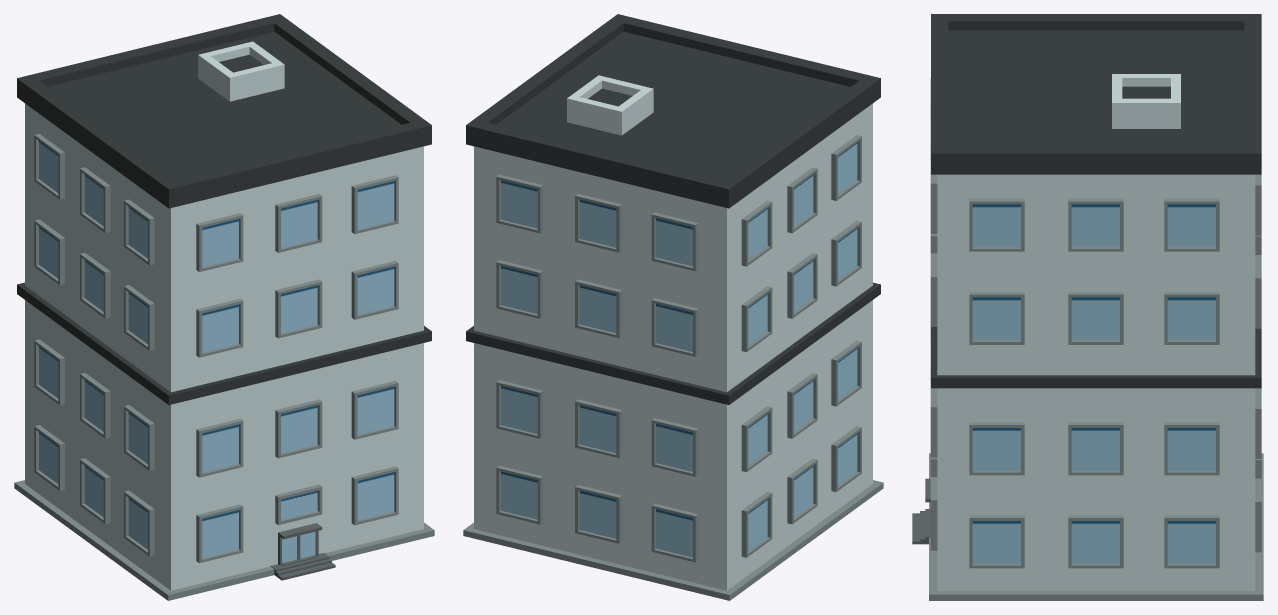
Rendered from White Stack Low.fbx.
3 views of the same model, side by side, from view 1: azimuth 30°, elevation 25°; view 2: azimuth 150°, elevation 25°; view 3: azimuth 270°, elevation 25° (orthographic). The views are drawn at different scales.
Parts seen in each view (by area): view 1: White Stack Low; view 2: White Stack Low; view 3: White Stack Low.
Part boxes in pixels (bbox=[...]): White Stack Low: bbox=[14, 14, 434, 600]; White Stack Low: bbox=[463, 14, 883, 600]; White Stack Low: bbox=[912, 14, 1263, 600].
Size of the model in its own units: 6.65 by 10.15 by 6.98.
